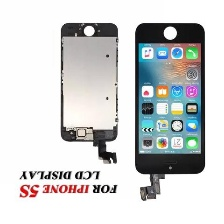phone: (133, 20, 208, 178), (58, 20, 122, 146)
